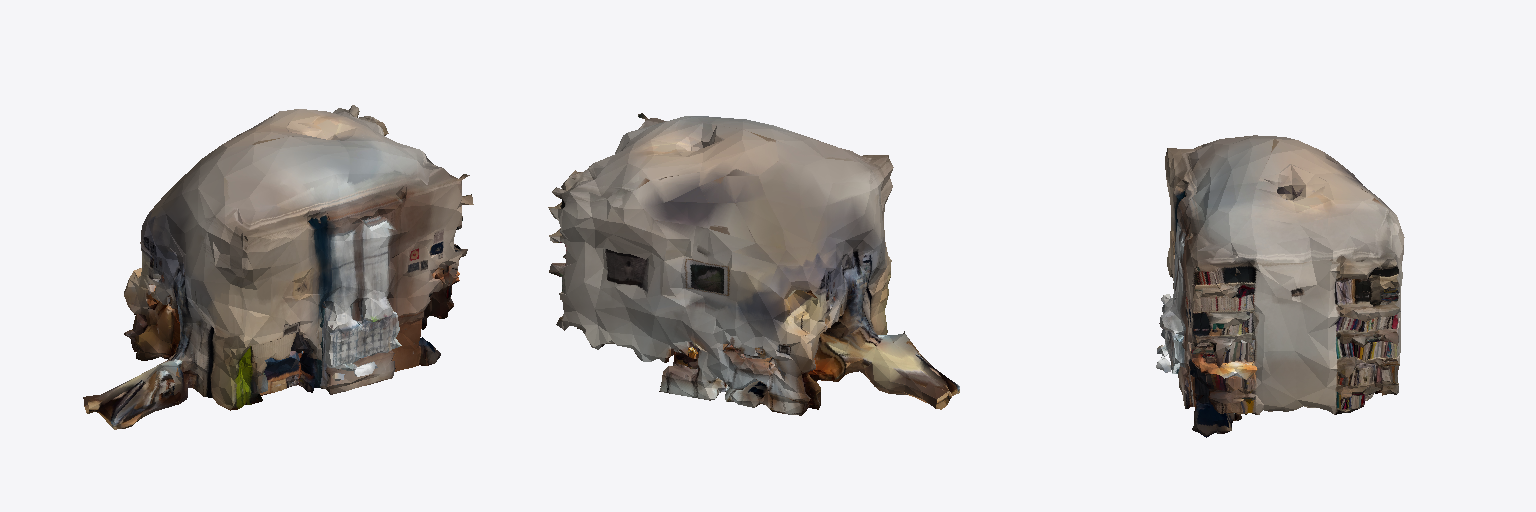
3 views of the same model, side by side, from view 1: azimuth 30°, elevation 25°; view 2: azimuth 150°, elevation 25°; view 3: azimuth 270°, elevation 25° (orthographic).
Visible parts, largest first — view 1: roomtour5; view 2: roomtour5; view 3: roomtour5.
Boxes of the visible parts, box(x1,y1,x2,y2) form: roomtour5: box(83, 105, 473, 429); roomtour5: box(548, 113, 959, 415); roomtour5: box(1156, 135, 1404, 437).
Size of the model in its own units: 31.58 by 19.94 by 19.4.
Materials: 1 (1 with a texture image).